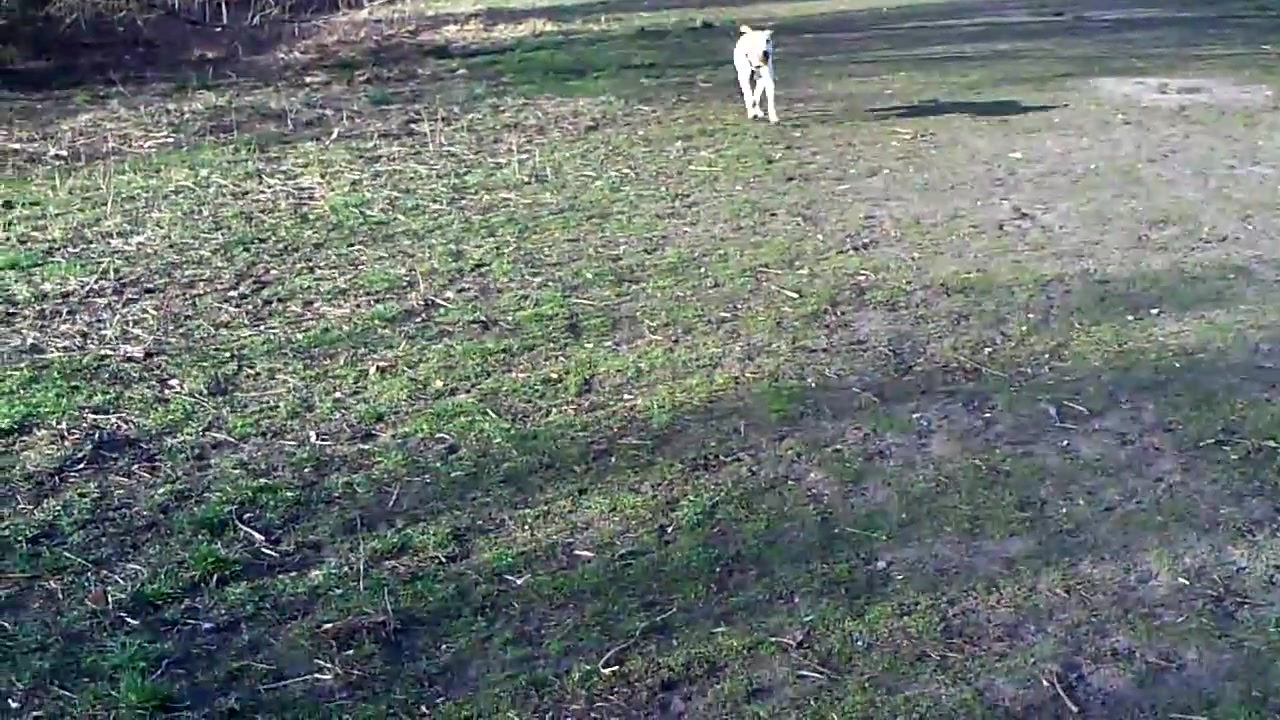dog: (734, 23, 782, 127)
